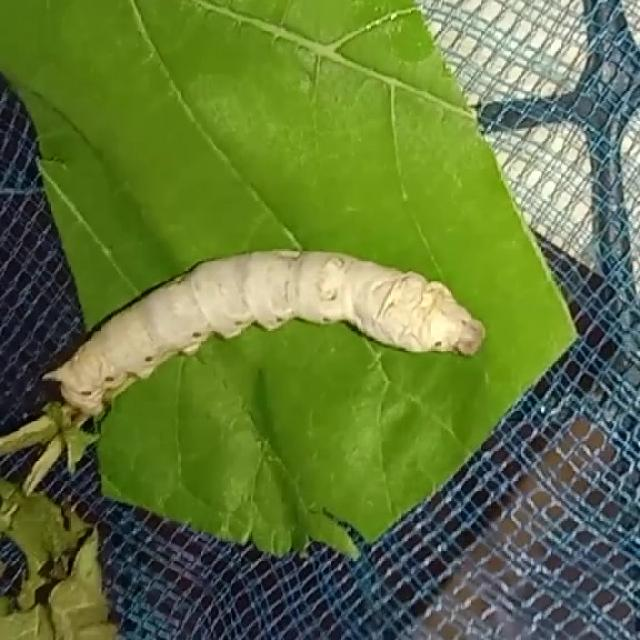Grasserie: (56, 205, 504, 414)
